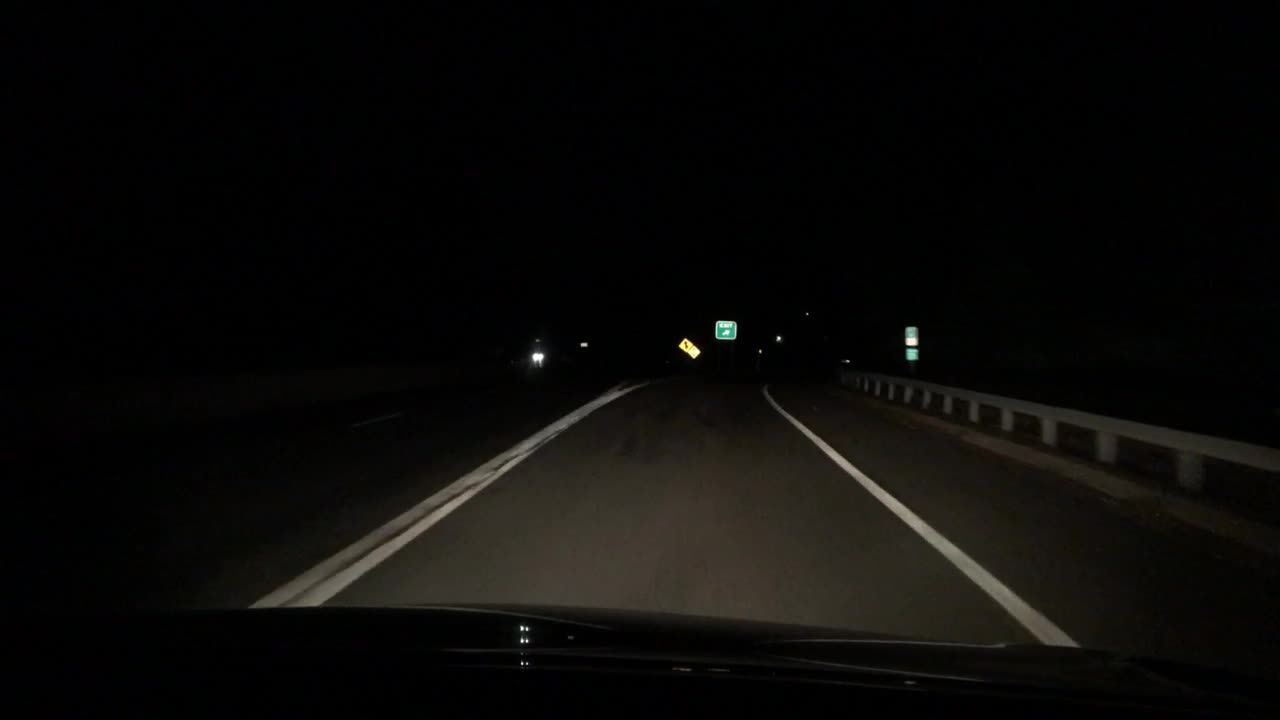car: (521, 348, 544, 368)
traffic sign: (714, 318, 737, 340), (677, 337, 693, 351), (904, 326, 916, 344), (687, 344, 700, 360), (906, 349, 917, 361)
